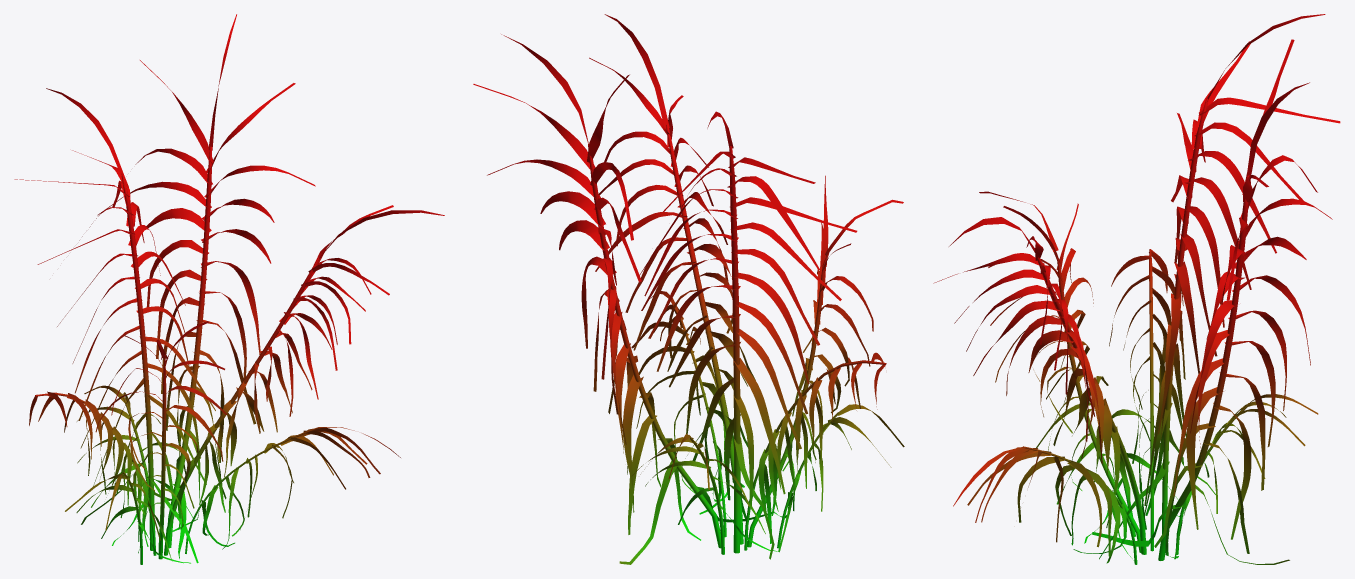
Rendered from Giant Reed_LOD0_Var1_sjllX.fbx.
3 renders of one model, left to right at view 1: azimuth 30°, elevation 25°; view 2: azimuth 150°, elevation 25°; view 3: azimuth 270°, elevation 25°, orthographic. The views are drawn at different scales.
Visible parts, largest first — view 1: _f244_Var1_LOD0; view 2: _f244_Var1_LOD0; view 3: _f244_Var1_LOD0.
Part boxes in pixels (<box>): _f244_Var1_LOD0: <box>14,14,444,564</box>; _f244_Var1_LOD0: <box>473,14,904,564</box>; _f244_Var1_LOD0: <box>933,14,1340,564</box>.
Bounding box in the file's own units: 191 × 256 × 170.
